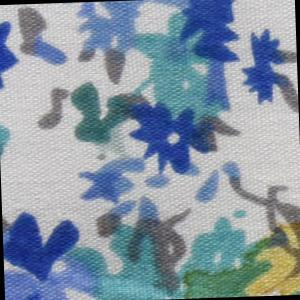Oil Stain: (179, 218, 300, 300)
